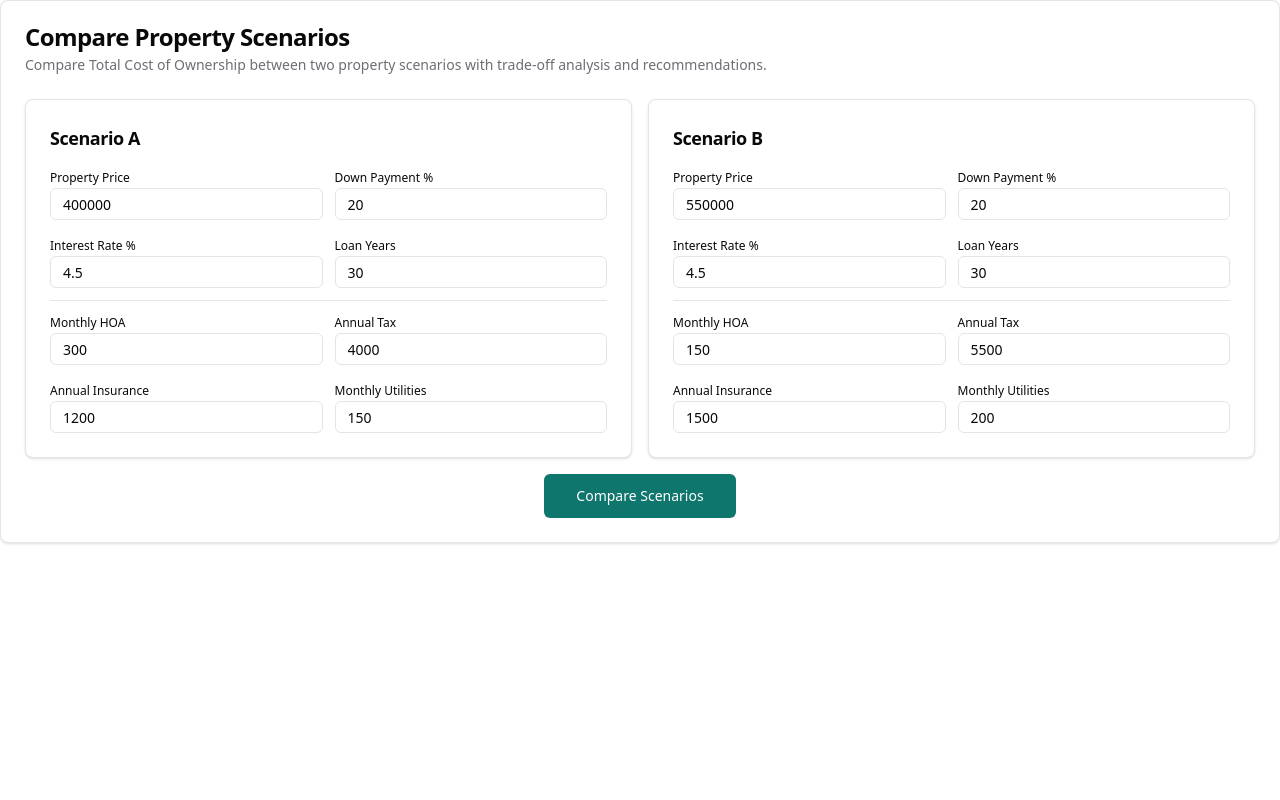
Test: TCOComparison › shows the error state when the comparison fails
This screenshot has width=1280, height=800.
Click the button "Compare Scenarios" at (640, 496), box [544,474,736,518]
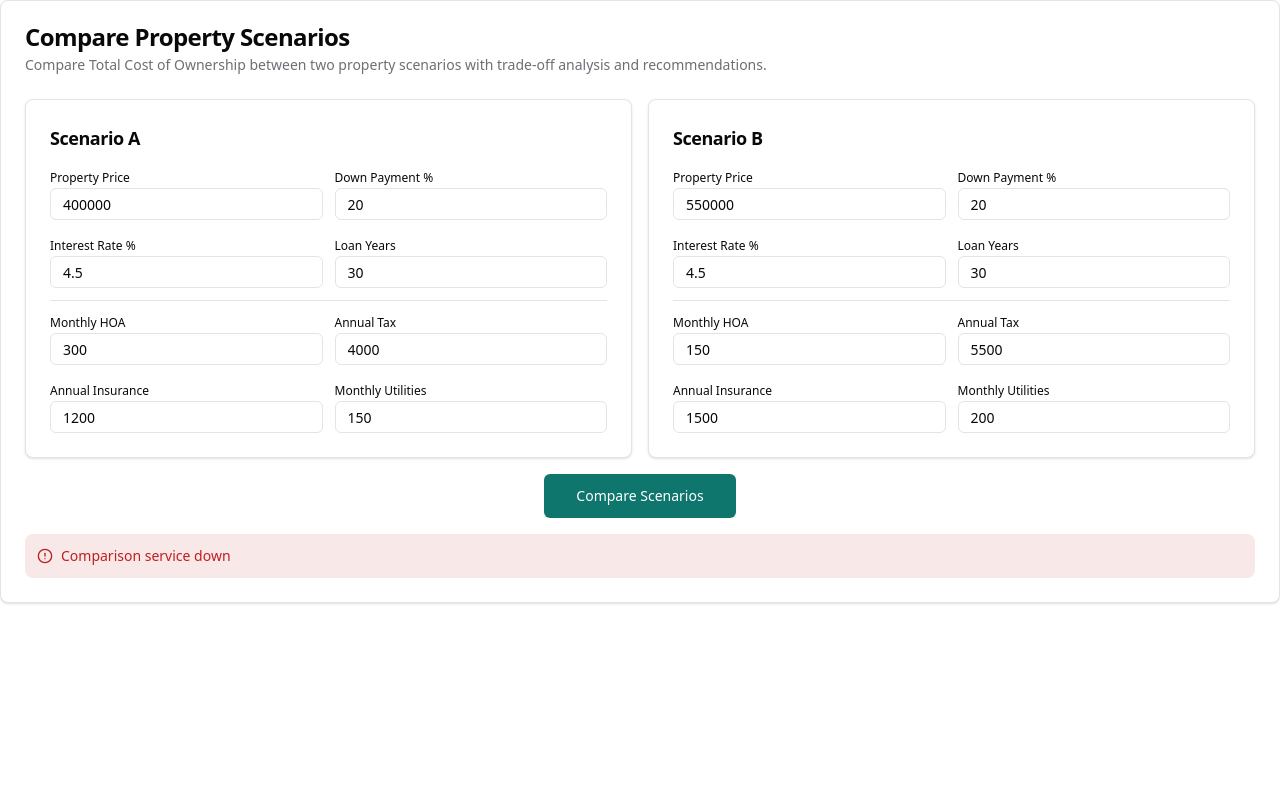
Result: the text "Comparison service down" is shown at [61,546,231,566]
